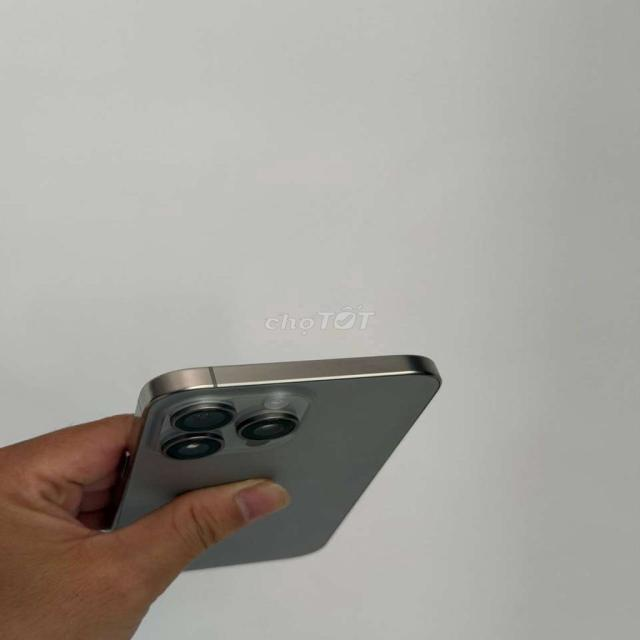gen_15: (80, 343, 452, 583)
